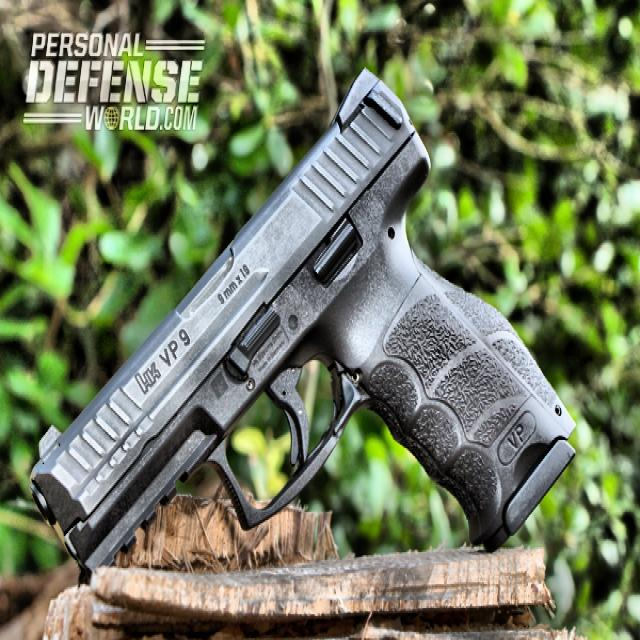HKVP9: (19, 42, 599, 582)
